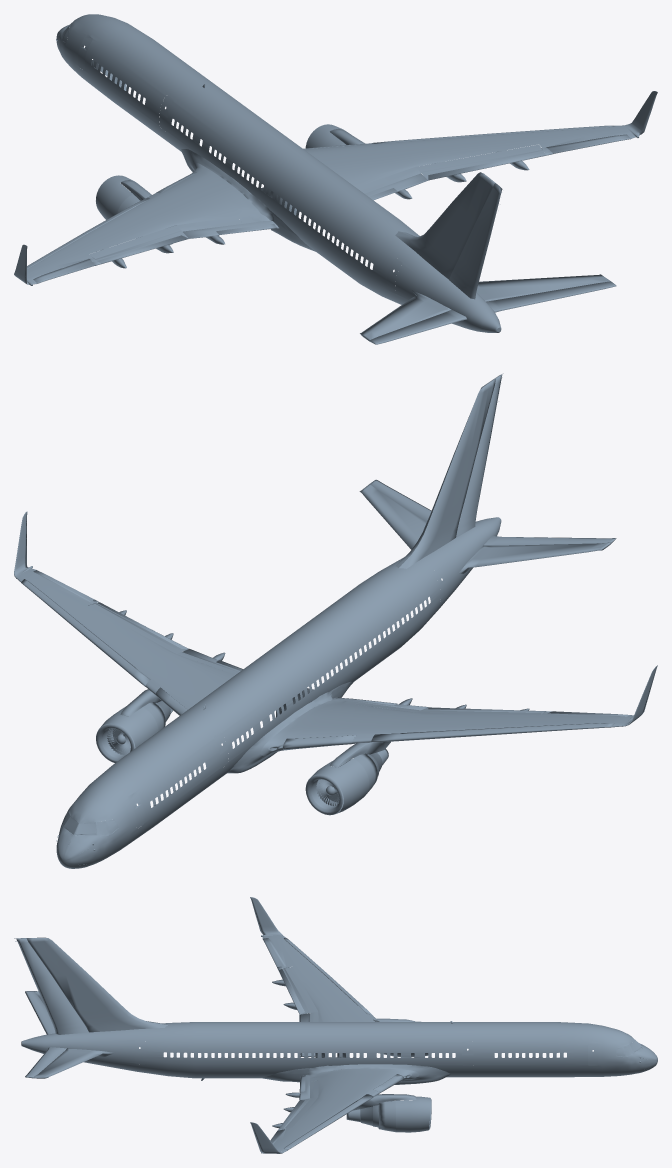
The picture shows the model from 3 angles, top to bottom: view 1: azimuth 30°, elevation 25°; view 2: azimuth 150°, elevation 25°; view 3: azimuth 270°, elevation 25°; orthographic projection. The views are drawn at different scales.
Bounding box in the file's own units: 38.36 × 12.34 × 46.34.
